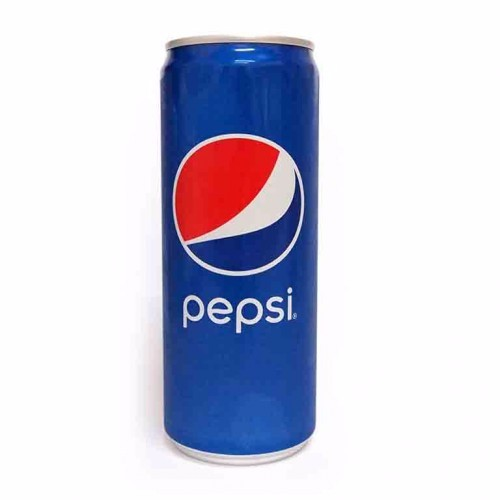can: (156, 27, 325, 471)
